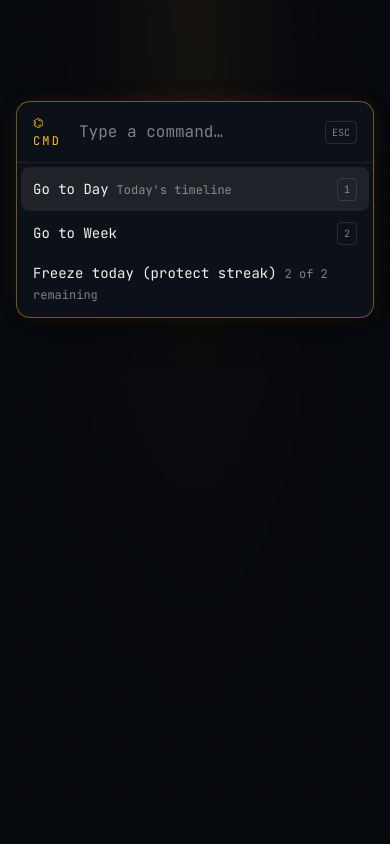
Test: CommandPalette › shows a 'no match' row when no commands match the query
Type "zzzzz" into the field with test id "command-palette-input" at (197, 132), box [79, 120, 315, 144]
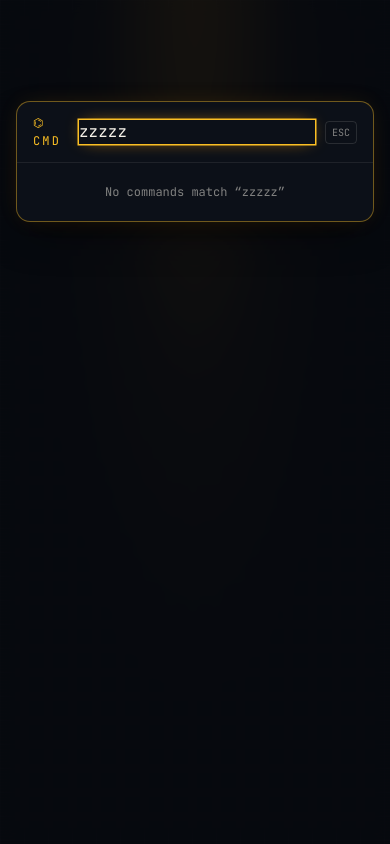
Check: the list item "No commands match “zzzzz”" is shown, box [105, 184, 285, 200]
